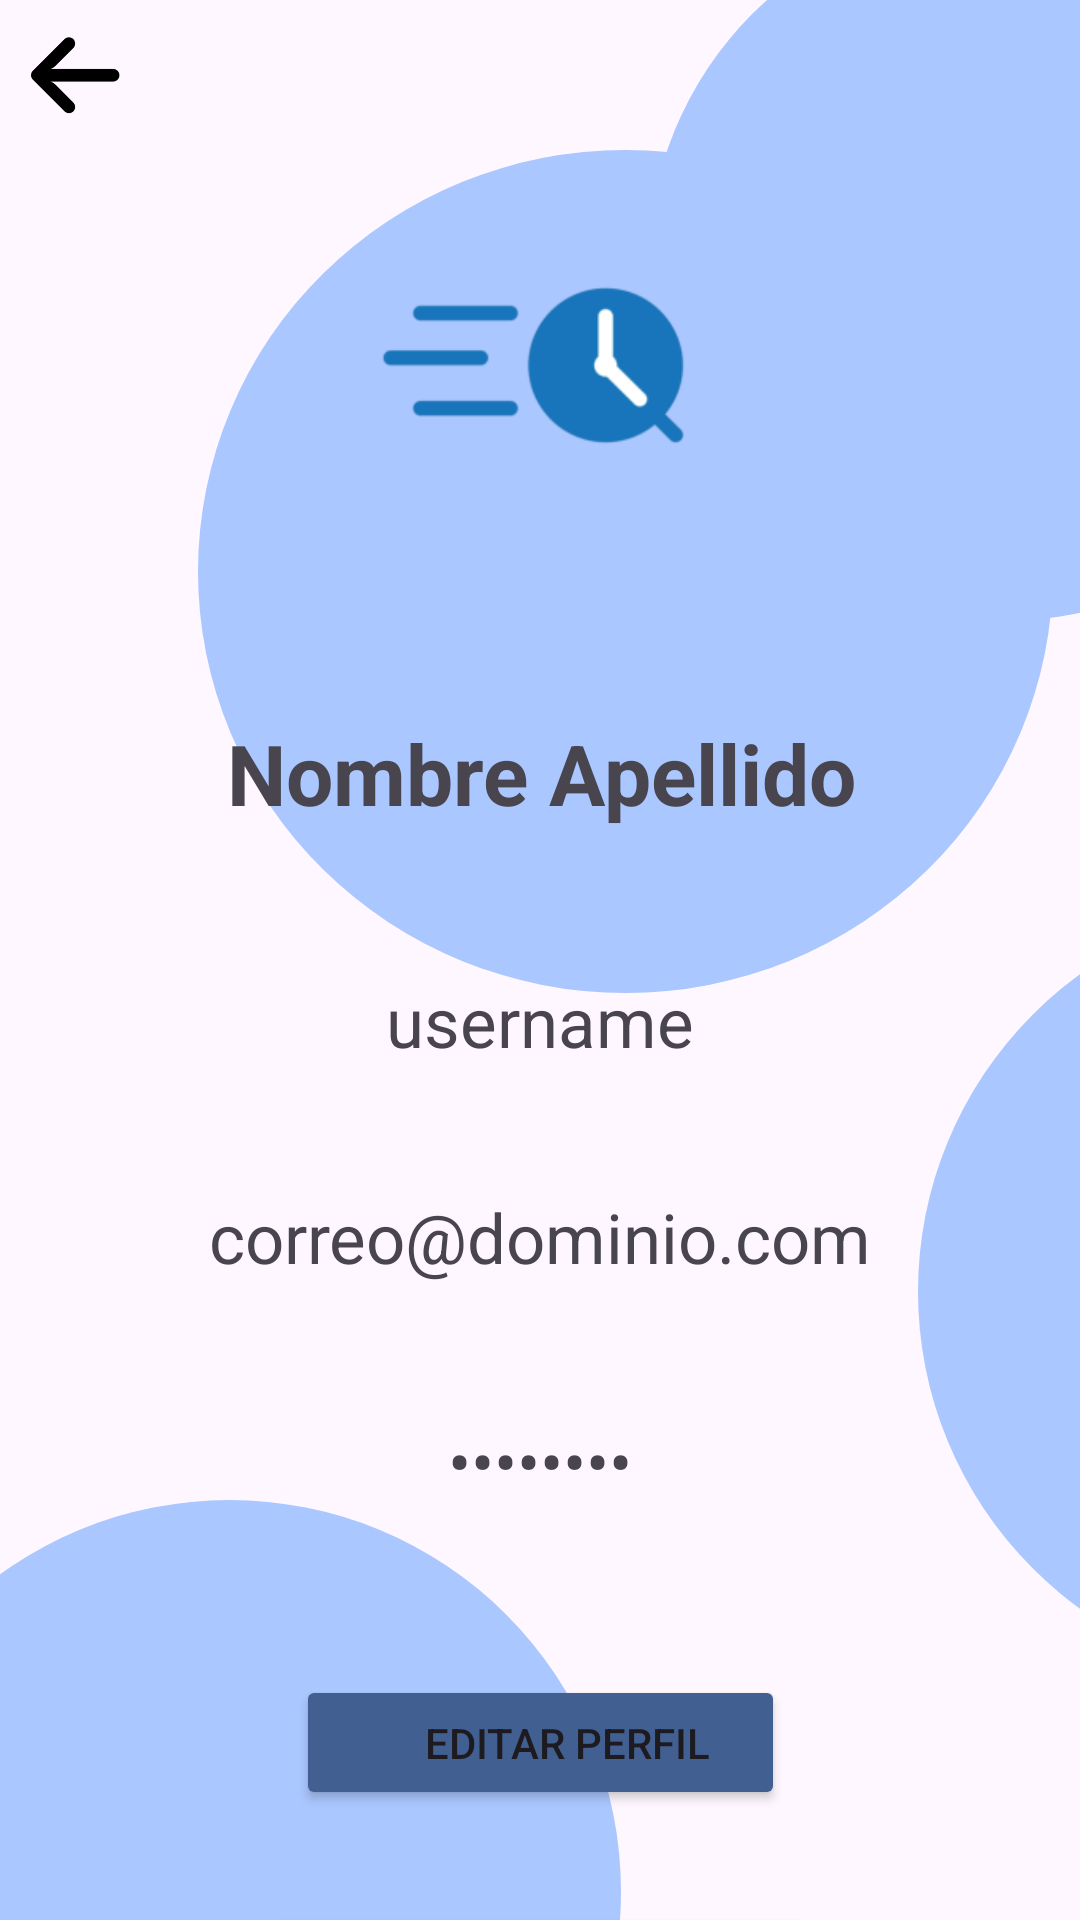

Point at icon controls on the screen. Image size 1080 x 1920, points as (x,y).
flecha: (75,75)
